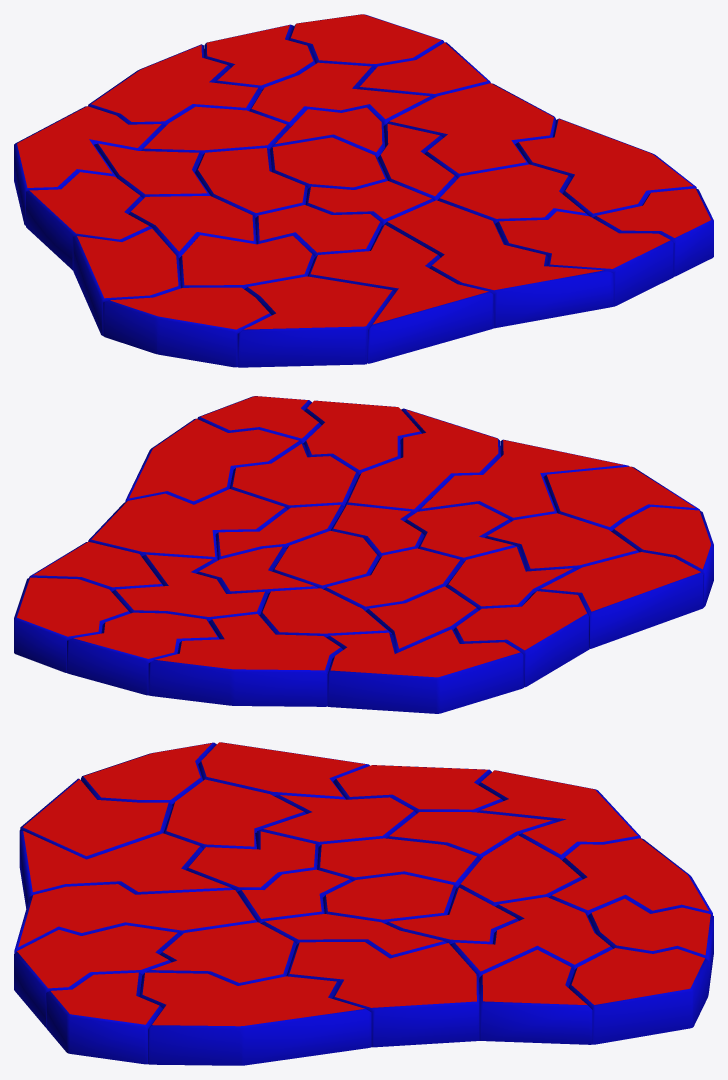
Rendered from SumoFloor.fbx.
The picture shows the model from 3 angles, top to bottom: view 1: azimuth 30°, elevation 25°; view 2: azimuth 150°, elevation 25°; view 3: azimuth 270°, elevation 25°; orthographic projection. The views are drawn at different scales.
Parts seen in each view (by area): view 1: RockFloor.027, RockFloor.026, RockFloor.025, RockFloor.024, RockFloor.016, RockFloor.015, RockFloor.013, RockFloor.020, RockFloor.021, RockFloor.022, RockFloor.023, RockFloor.004 (+15 smaller); view 2: RockFloor.021, RockFloor.020, RockFloor.023, RockFloor.016, RockFloor.027, RockFloor.015, RockFloor.022, RockFloor.019, RockFloor.026, RockFloor.018, RockFloor.013, RockFloor.025 (+15 smaller); view 3: RockFloor.015, RockFloor.016, RockFloor.018, RockFloor.027, RockFloor.026, RockFloor.017, RockFloor.013, RockFloor.020, RockFloor.014, RockFloor.021, RockFloor.025, RockFloor.004 (+15 smaller).
Boxes of the visible parts, x1=… form: RockFloor.027: x1=384, y1=200, x2=613, y2=328; RockFloor.026: x1=307, y1=224, x2=493, y2=363; RockFloor.025: x1=237, y1=276, x2=395, y2=367; RockFloor.024: x1=103, y1=287, x2=271, y2=367; RockFloor.016: x1=385, y1=83, x2=555, y2=178; RockFloor.015: x1=515, y1=118, x2=696, y2=217; RockFloor.013: x1=495, y1=211, x2=674, y2=306; RockFloor.020: x1=88, y1=44, x2=261, y2=125; RockFloor.021: x1=14, y1=106, x2=165, y2=225; RockFloor.022: x1=26, y1=172, x2=153, y2=270; RockFloor.023: x1=73, y1=228, x2=180, y2=335; RockFloor.004: x1=249, y1=62, x2=433, y2=127; RockFloor.021: x1=326, y1=629, x2=523, y2=713; RockFloor.020: x1=148, y1=614, x2=342, y2=706; RockFloor.023: x1=537, y1=552, x2=703, y2=648; RockFloor.016: x1=88, y1=489, x2=287, y2=560; RockFloor.027: x1=345, y1=408, x2=500, y2=513; RockFloor.015: x1=125, y1=418, x2=302, y2=504; RockFloor.022: x1=453, y1=591, x2=589, y2=687; RockFloor.019: x1=67, y1=612, x2=219, y2=695; RockFloor.026: x1=418, y1=439, x2=629, y2=521; RockFloor.018: x1=14, y1=577, x2=130, y2=672; RockFloor.013: x1=303, y1=400, x2=421, y2=474; RockFloor.025: x1=543, y1=466, x2=700, y2=531; RockFloor.015: x1=139, y1=972, x2=371, y2=1065; RockFloor.016: x1=286, y1=942, x2=479, y2=1047; RockFloor.018: x1=568, y1=948, x2=708, y2=1044; RockFloor.027: x1=14, y1=884, x2=257, y2=953; RockFloor.026: x1=19, y1=830, x2=233, y2=908; RockFloor.017: x1=479, y1=949, x2=592, y2=1044; RockFloor.013: x1=14, y1=925, x2=181, y2=1027; RockFloor.020: x1=549, y1=838, x2=712, y2=915; RockFloor.014: x1=46, y1=972, x2=162, y2=1064; RockFloor.021: x1=477, y1=770, x2=640, y2=859; RockFloor.025: x1=20, y1=778, x2=172, y2=859; RockFloor.004: x1=450, y1=897, x2=612, y2=977.
Size of the model in its own units: 3488 by 217 by 3600.
